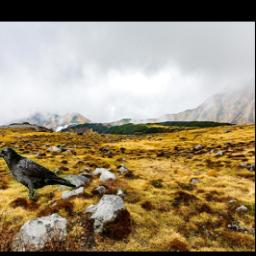Crow: (0, 146, 77, 199)
